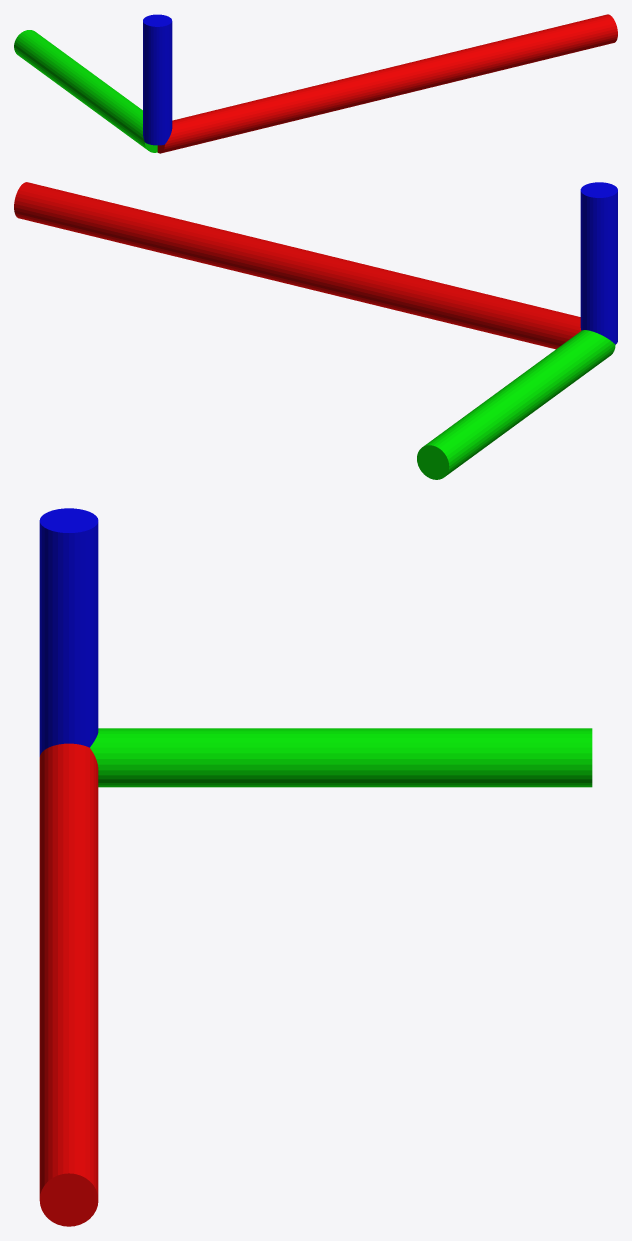
File: axes.glb
3 renders of one model, top to bottom at view 1: azimuth 30°, elevation 25°; view 2: azimuth 150°, elevation 25°; view 3: azimuth 270°, elevation 25°, orthographic. The views are drawn at different scales.
Parts seen in each view (by area): view 1: Cylinder.001, Cylinder.002, Cylinder; view 2: Cylinder.001, Cylinder.002, Cylinder; view 3: Cylinder.002, Cylinder.001, Cylinder.
Part boxes in pixels (bbox=[...]): Cylinder.001: bbox=[157, 14, 617, 153]; Cylinder.002: bbox=[14, 30, 157, 152]; Cylinder: bbox=[143, 14, 172, 145]; Cylinder.001: bbox=[14, 182, 581, 349]; Cylinder.002: bbox=[417, 330, 615, 479]; Cylinder: bbox=[580, 182, 617, 344]; Cylinder.002: bbox=[90, 728, 592, 787]; Cylinder.001: bbox=[39, 743, 98, 1226]; Cylinder: bbox=[39, 508, 98, 756].
Size of the model in its own units: 2.06 by 0.5562 by 1.06.
